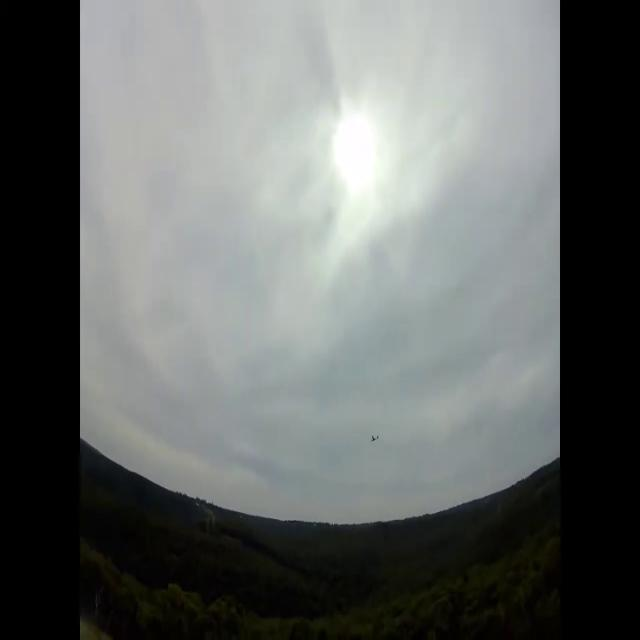iha: (374, 438, 376, 440)
